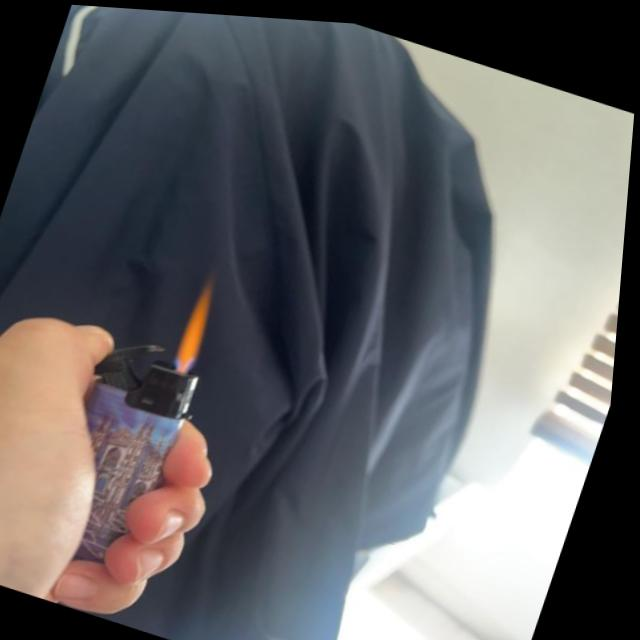Fire: (176, 268, 228, 368)
